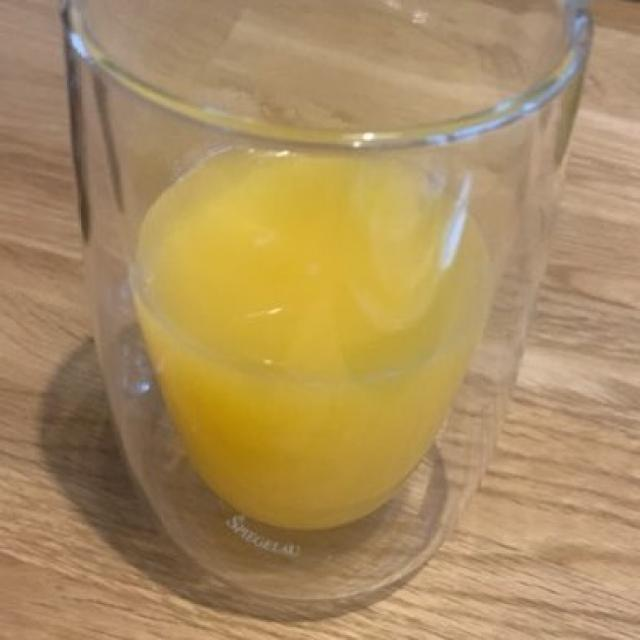juice: (106, 148, 500, 537)
